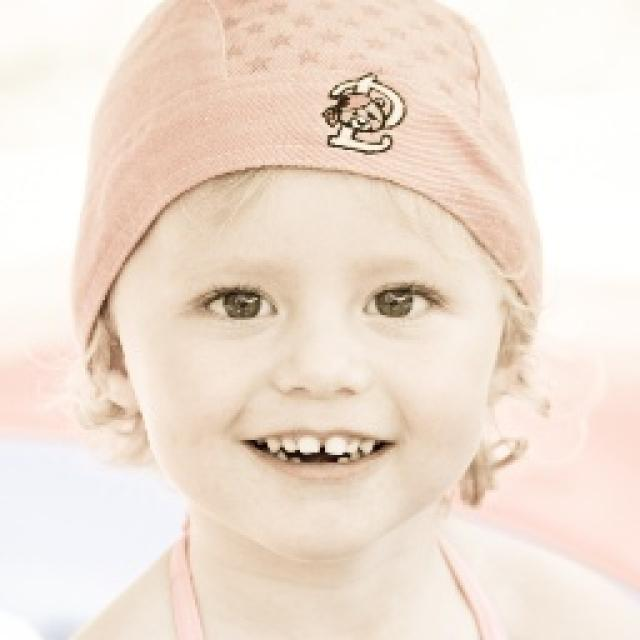earlobe: (102, 367, 141, 413), (484, 364, 516, 408)
eye: (197, 281, 282, 328), (365, 281, 443, 327)
nose: (276, 384, 372, 417)
